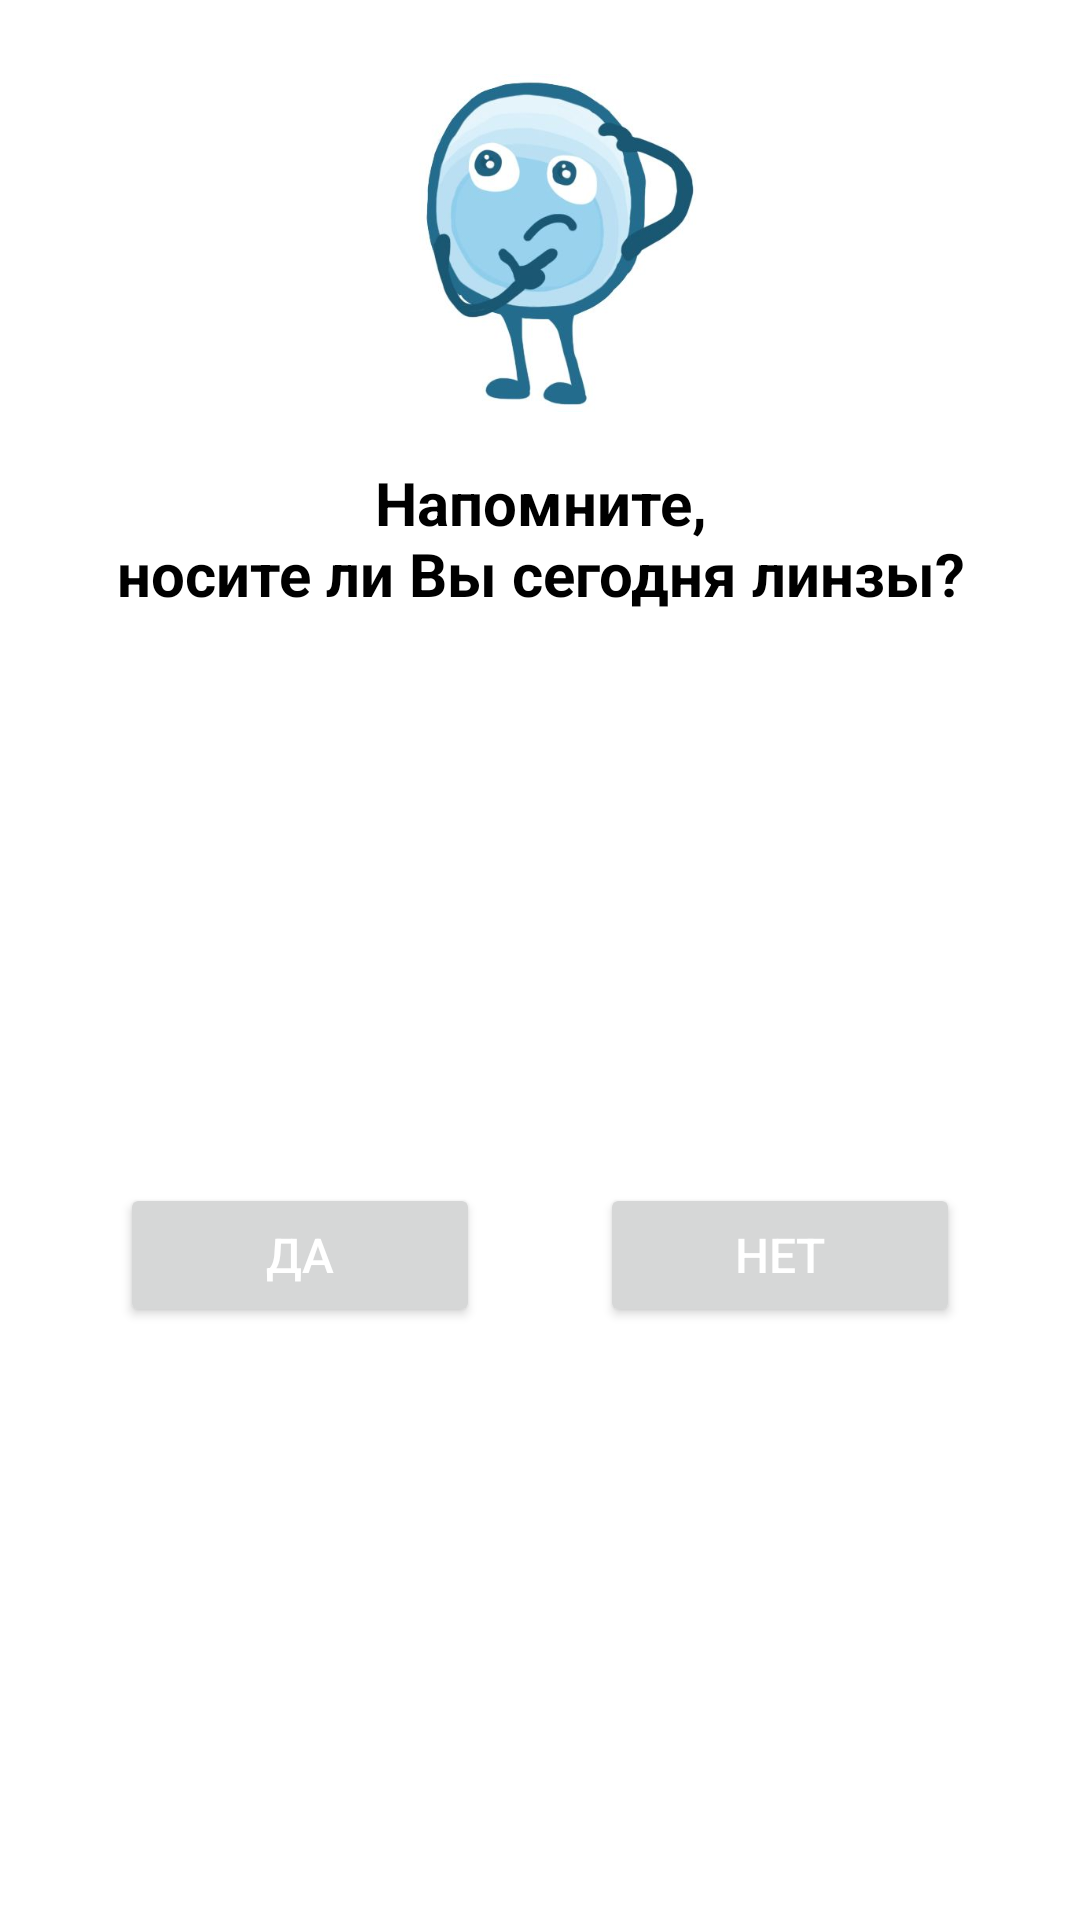

Screen size 1080 x 1920. Icon name, then its center in pixels as point (x, y):
lens thinking: point (560, 243)
